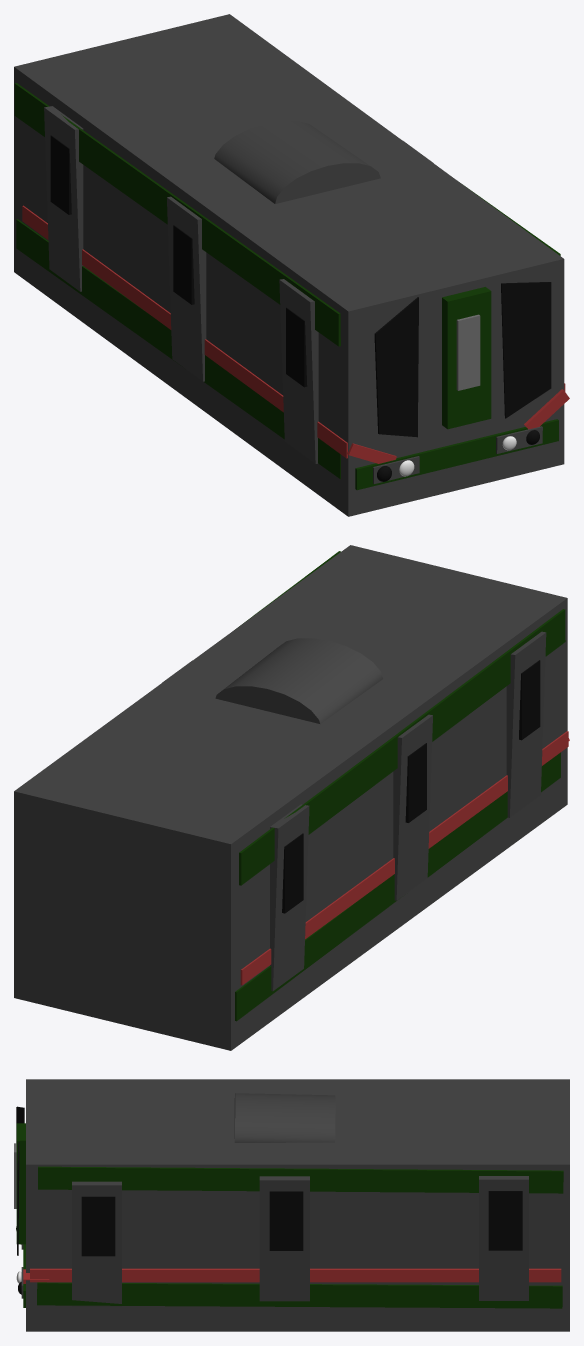
Rendered from ThirdTrain.fbx.
The picture shows the model from 3 angles, top to bottom: view 1: azimuth 30°, elevation 25°; view 2: azimuth 150°, elevation 25°; view 3: azimuth 270°, elevation 25°; orthographic projection. The views are drawn at different scales.
Visible parts, largest first — view 1: group4_pasted__pCube7; view 2: group4_pasted__pCube7; view 3: group4_pasted__pCube7.
Part boxes in pixels (<box>): group4_pasted__pCube7: <box>14,14,569,516</box>; group4_pasted__pCube7: <box>14,545,569,1050</box>; group4_pasted__pCube7: <box>14,1079,569,1331</box>.
Size of the model in its own units: 4.46 by 4.12 by 11.09.
